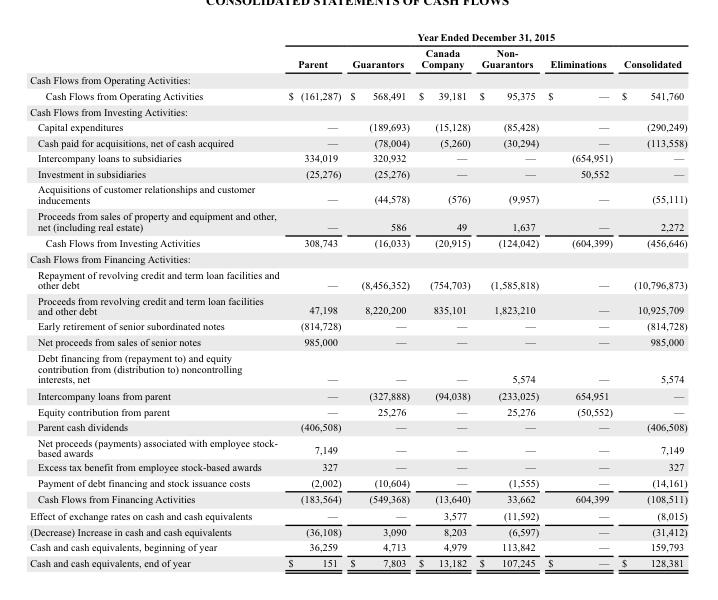table: (29, 29, 686, 568)
table column: (29, 29, 283, 568), (542, 29, 616, 568), (616, 29, 686, 568), (345, 29, 413, 568), (474, 29, 542, 568), (283, 29, 345, 568), (413, 29, 474, 568)
table column header: (29, 29, 686, 71)
table projected row header: (29, 71, 686, 87), (29, 103, 686, 119), (29, 250, 686, 266)
table row: (29, 349, 686, 386), (29, 44, 686, 71), (29, 207, 686, 234), (29, 181, 686, 207), (29, 266, 686, 292), (29, 292, 686, 318), (29, 434, 686, 459), (29, 386, 686, 403), (29, 506, 686, 523), (29, 71, 686, 87), (29, 87, 686, 103), (29, 103, 686, 119), (29, 134, 686, 150), (29, 165, 686, 181), (29, 234, 686, 250), (29, 250, 686, 266), (29, 333, 686, 349), (29, 418, 686, 434), (29, 474, 686, 490), (29, 490, 686, 506), (29, 538, 686, 554), (29, 29, 686, 44), (29, 119, 686, 134), (29, 150, 686, 165), (29, 318, 686, 333), (29, 403, 686, 418), (29, 459, 686, 474), (29, 523, 686, 538), (29, 554, 686, 568)
table spanning cell: (283, 29, 686, 44)
